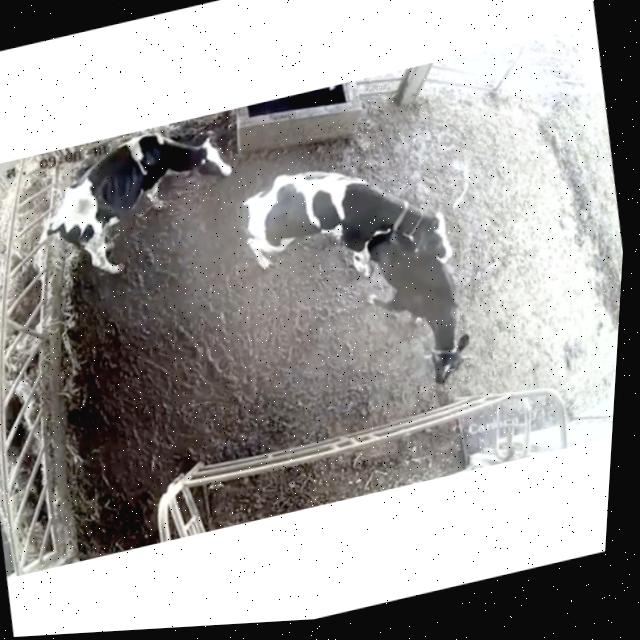propping: (353, 172, 476, 303)
